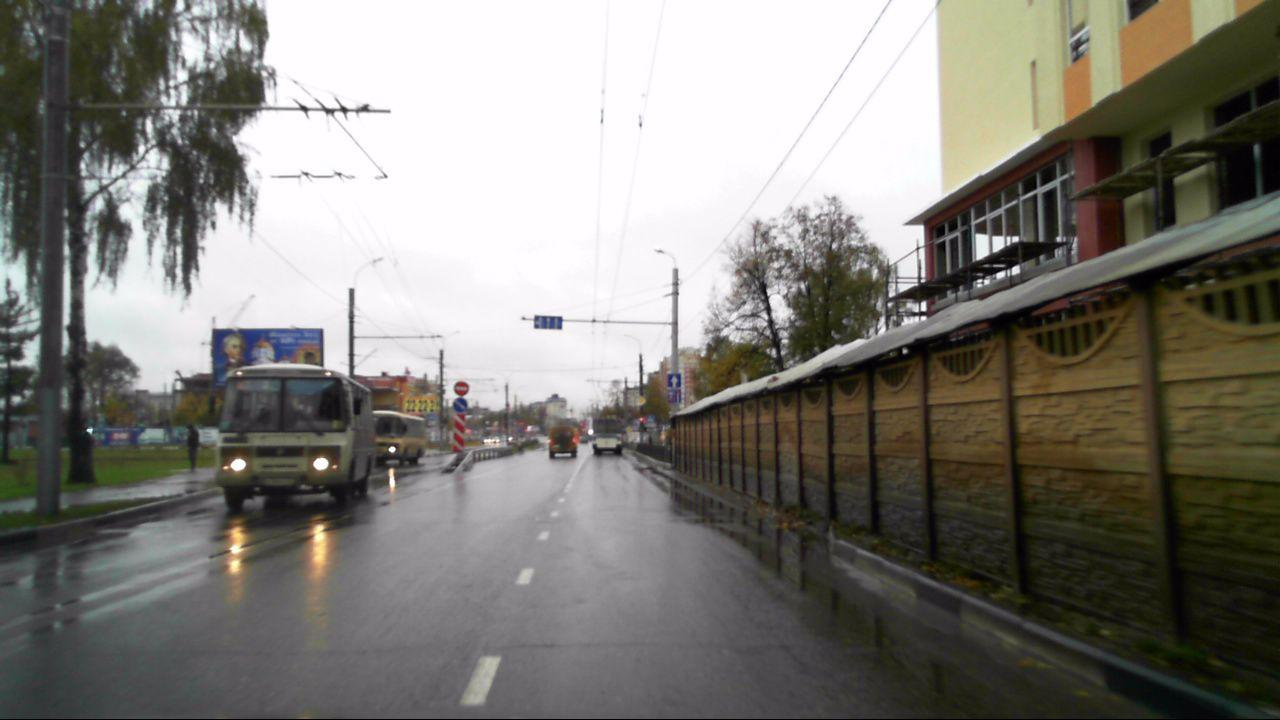road_sign: (532, 315, 564, 331), (454, 413, 465, 455), (453, 380, 470, 397), (667, 372, 682, 388), (451, 398, 468, 412)
